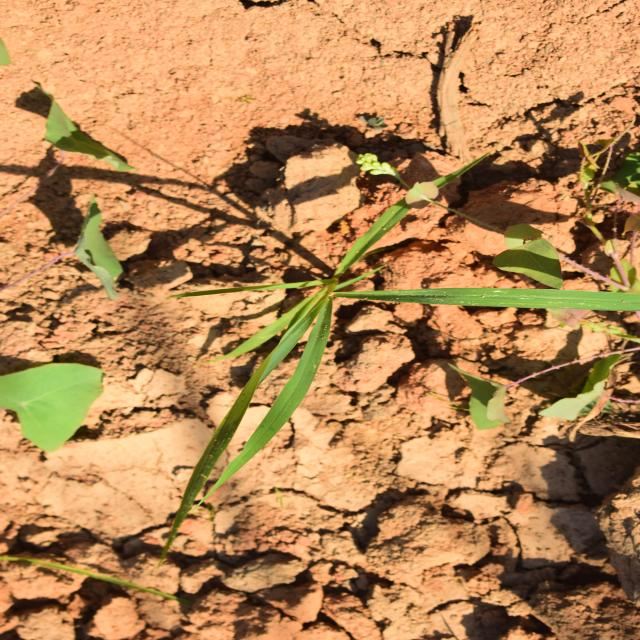green_foxtail: (150, 182, 403, 524)
